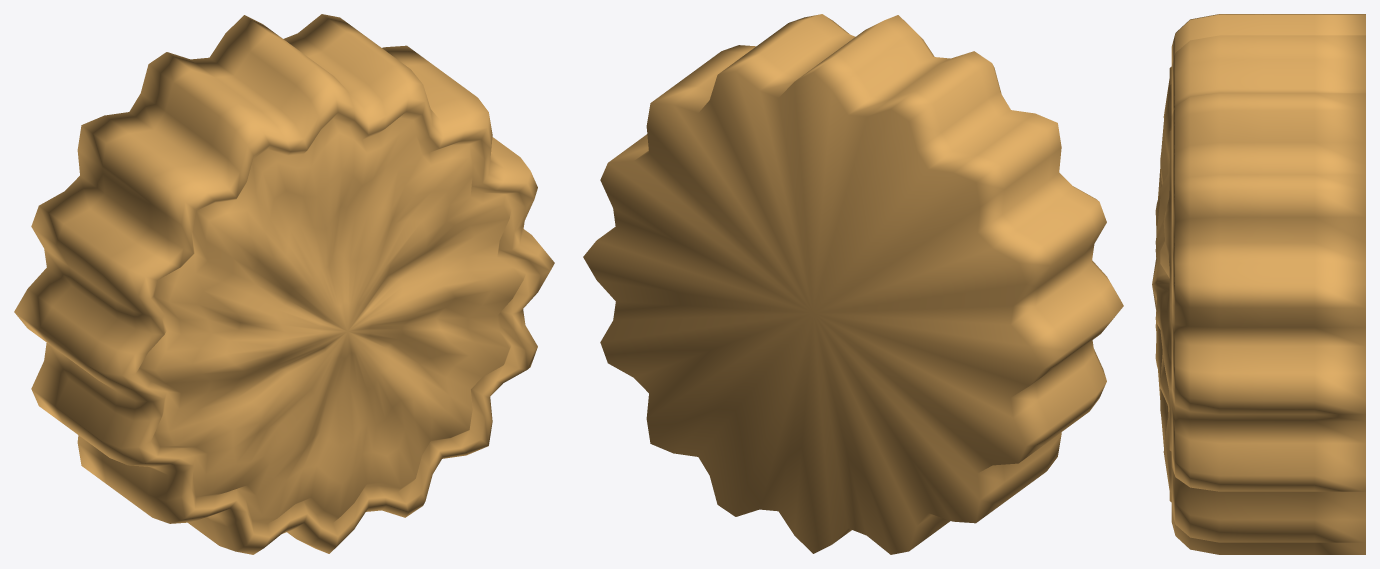
3 views of the same model, side by side, from view 1: azimuth 30°, elevation 25°; view 2: azimuth 150°, elevation 25°; view 3: azimuth 270°, elevation 25° (orthographic). The views are drawn at different scales.
Bounding box in the file's own units: 75 × 75 × 29.2.
